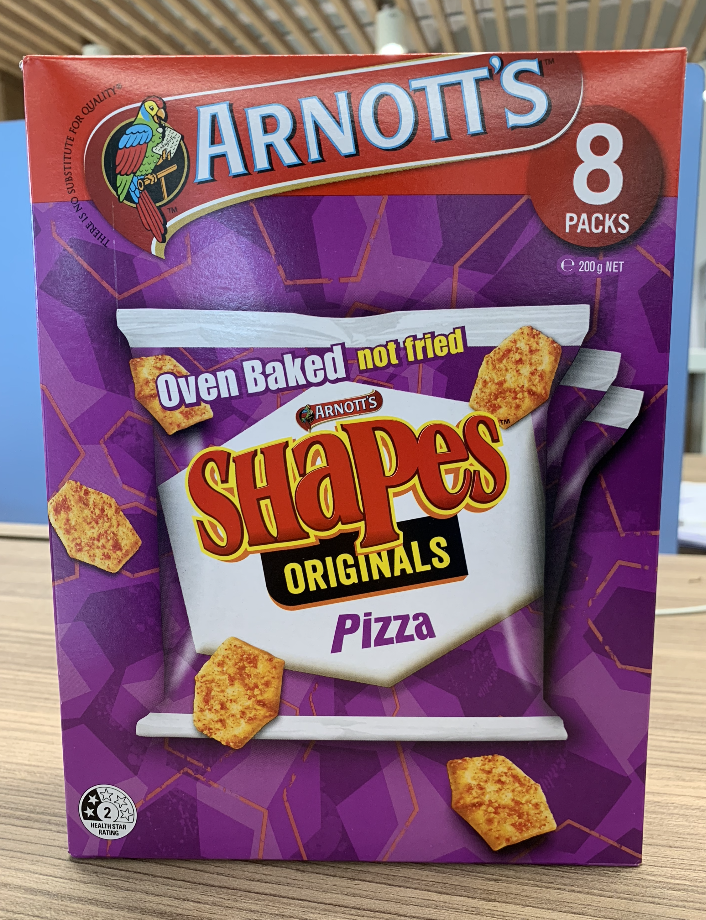crackers_200g-299g: (73, 84, 636, 846)
